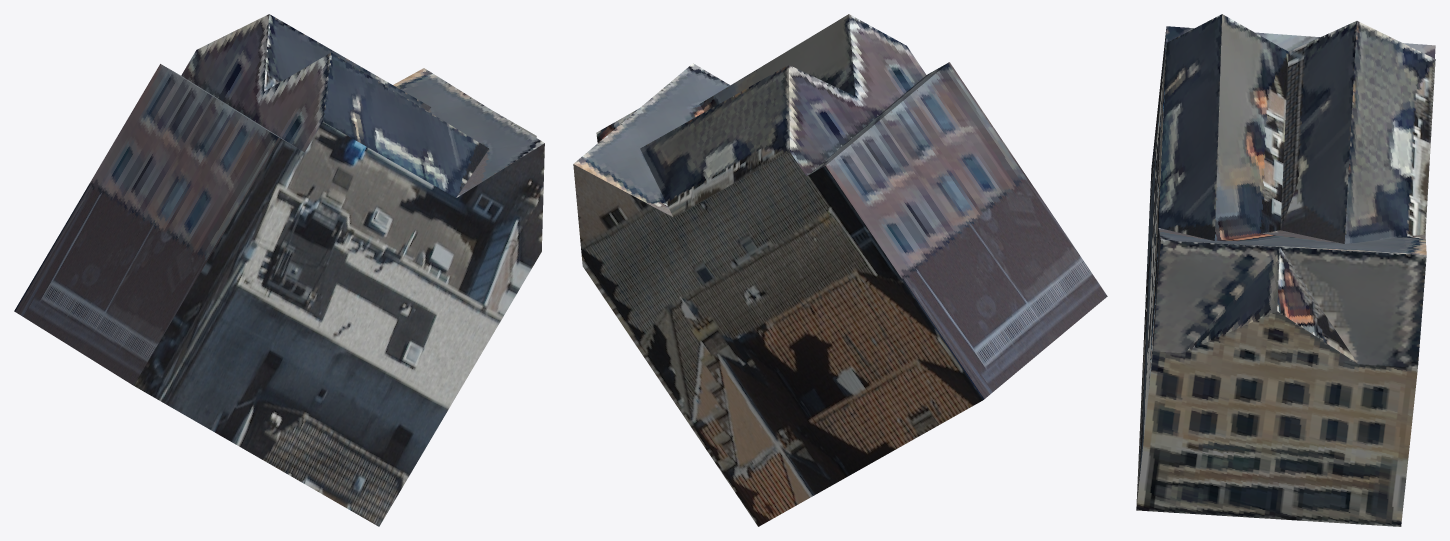
3 renders of one model, left to right at view 1: azimuth 30°, elevation 25°; view 2: azimuth 150°, elevation 25°; view 3: azimuth 270°, elevation 25°, orthographic. The views are drawn at different scales.
Visible parts, largest first — view 1: BAG_0599100000767277 (×5); view 2: BAG_0599100000767277 (×5); view 3: BAG_0599100000767277 (×5).
Part boxes in pixels (<box>): BAG_0599100000767277 (×5): <box>14,14,544,526</box>; BAG_0599100000767277 (×5): <box>573,14,1107,526</box>; BAG_0599100000767277 (×5): <box>1136,14,1435,526</box>.
Size of the model in its own units: 24.52 by 23.53 by 12.58.
5 materials, 5 textured.
